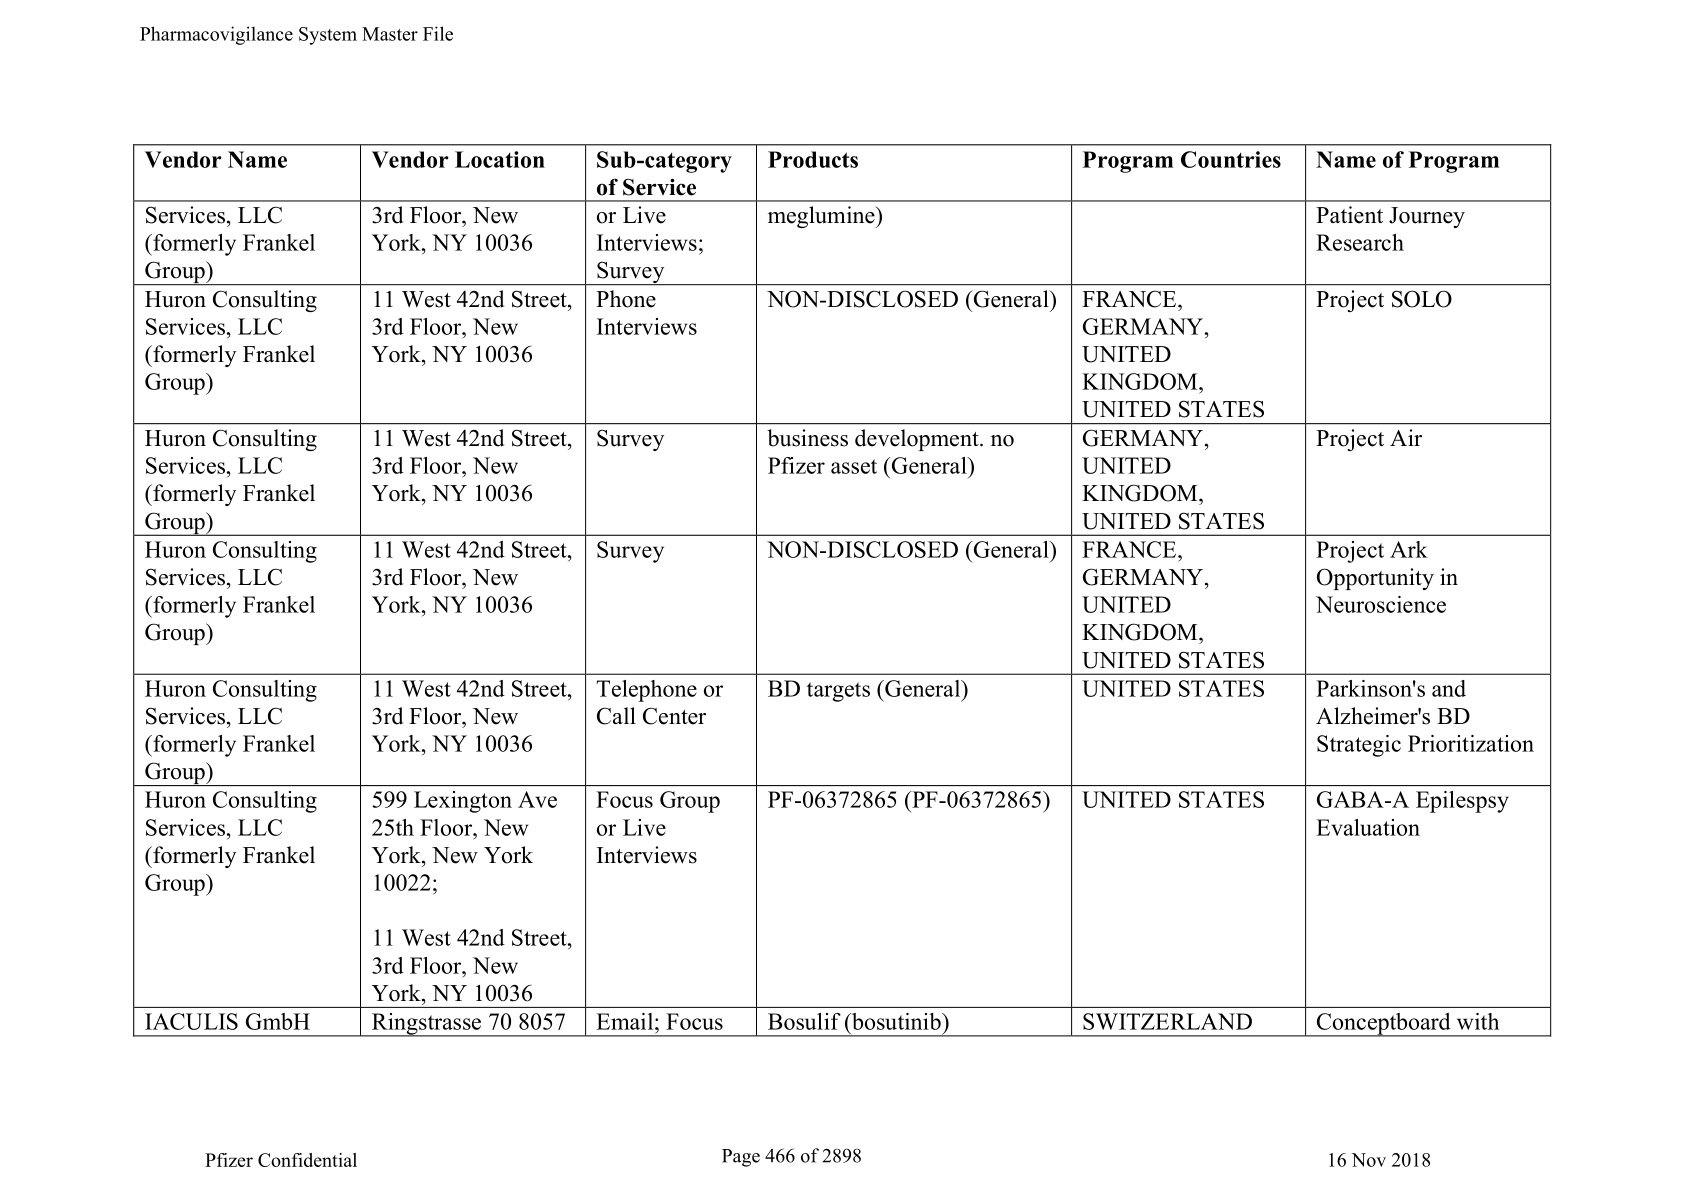full_lined: (131, 143, 1552, 1038)
